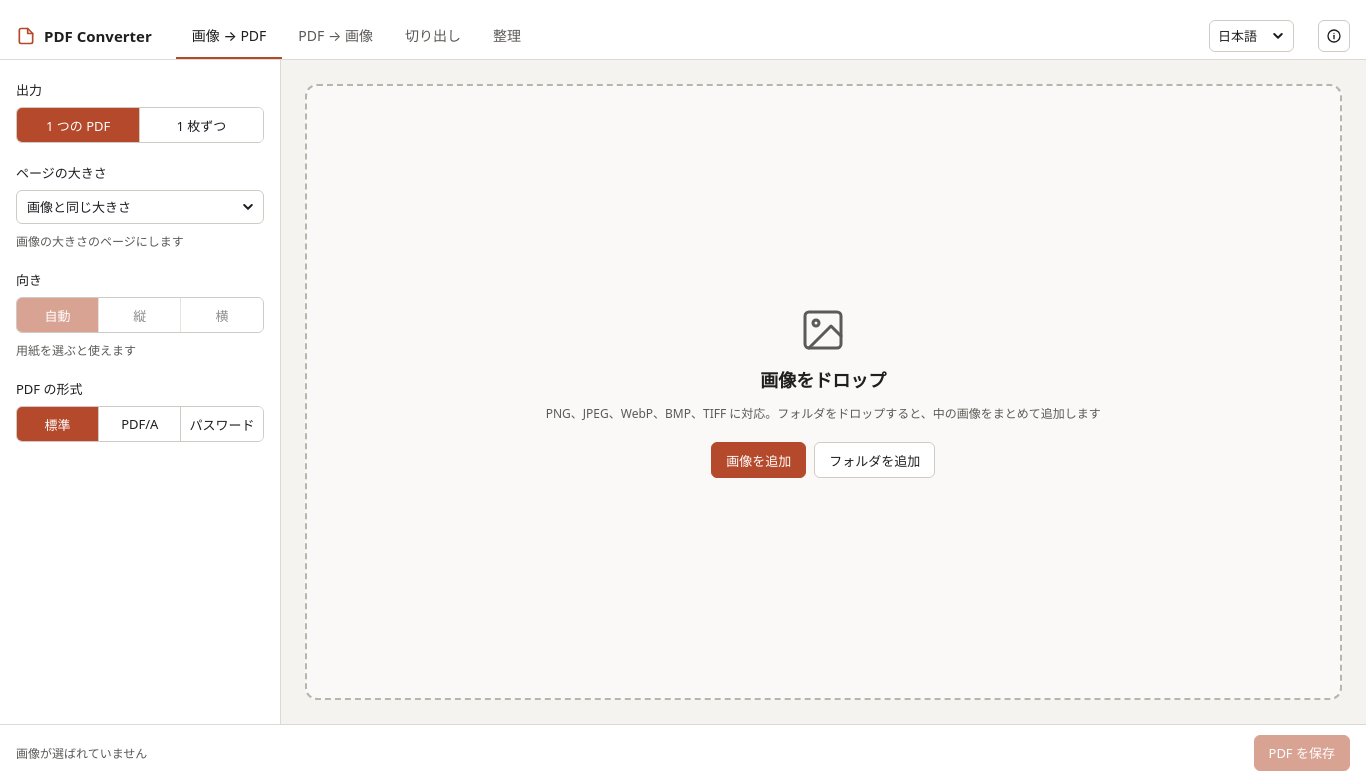
Test: adding PDFs › asks for files, and shows a chip for each PDF and its pages in the grid, in order
The image size is (1366, 780).
Step 1. Click the tab "整理" → click(507, 36), box [477,12,537,59]
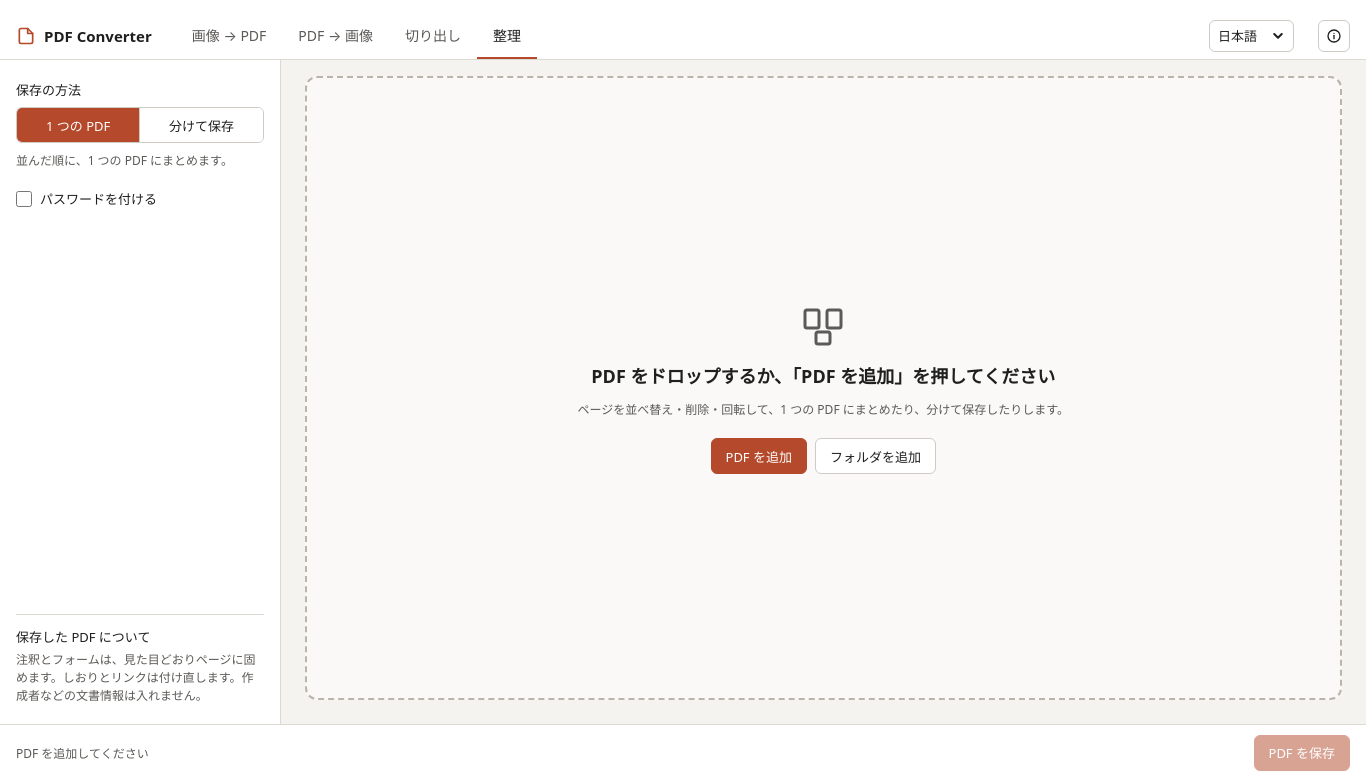
Step 2. Click the button "PDF を追加" → click(759, 456), box [710,438,807,474]
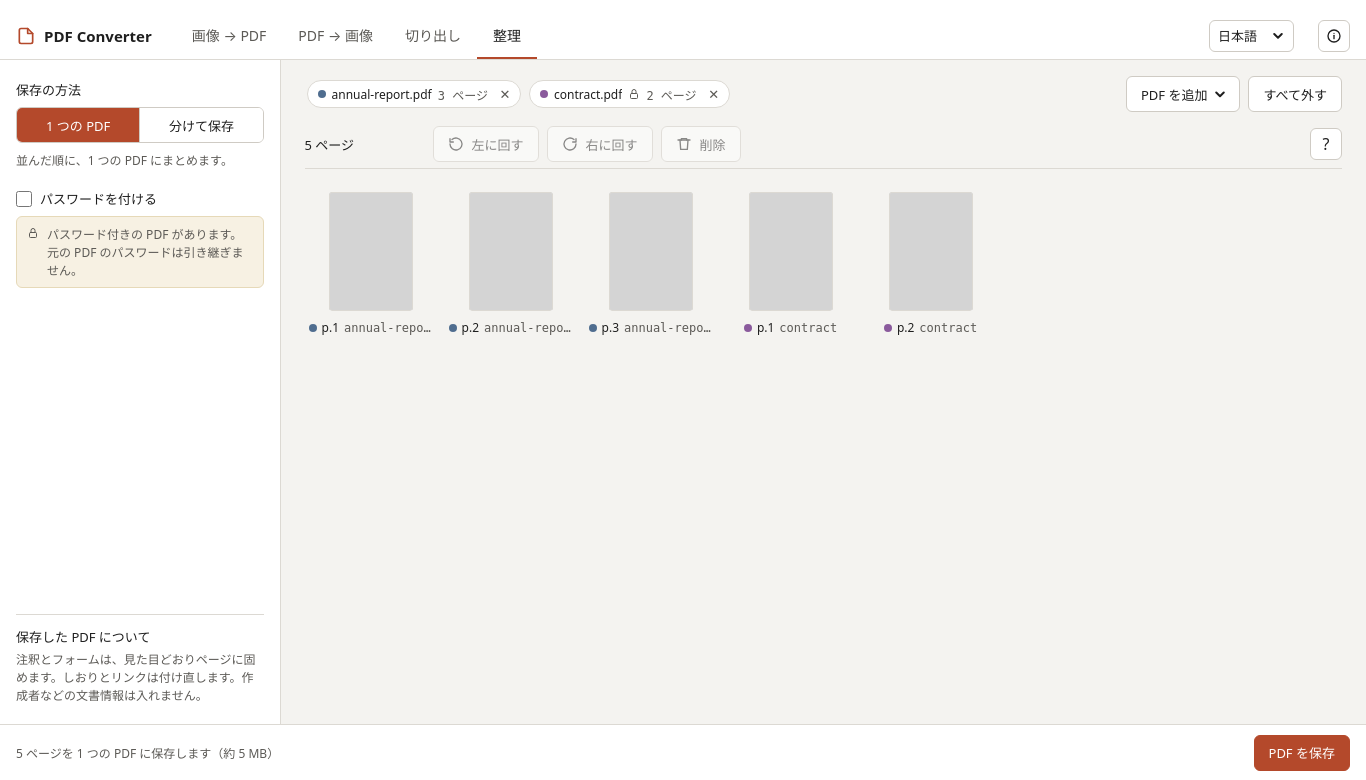
Now the list items read "annual-report.pdf3 ページ✕", "contract.pdf2 ページ✕", in this order, box [306,80,521,108]; [529,80,730,108]
Now the text "5 ページ" is shown, box [304,136,354,154]
Now the element with test id "drop-zone" is gone
